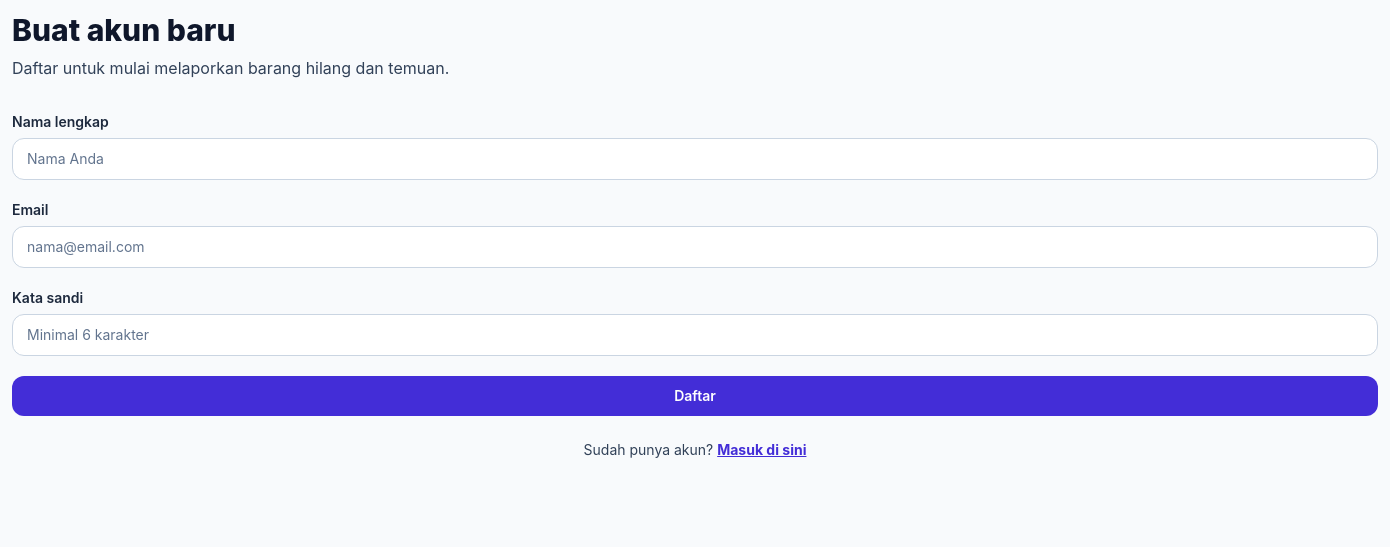
RegisterPage › memvalidasi input
Type "123" into the password field labelled "Kata sandi" at {"x": 695, "y": 335}, box top-left (12, 314), bottom-right (1378, 356)
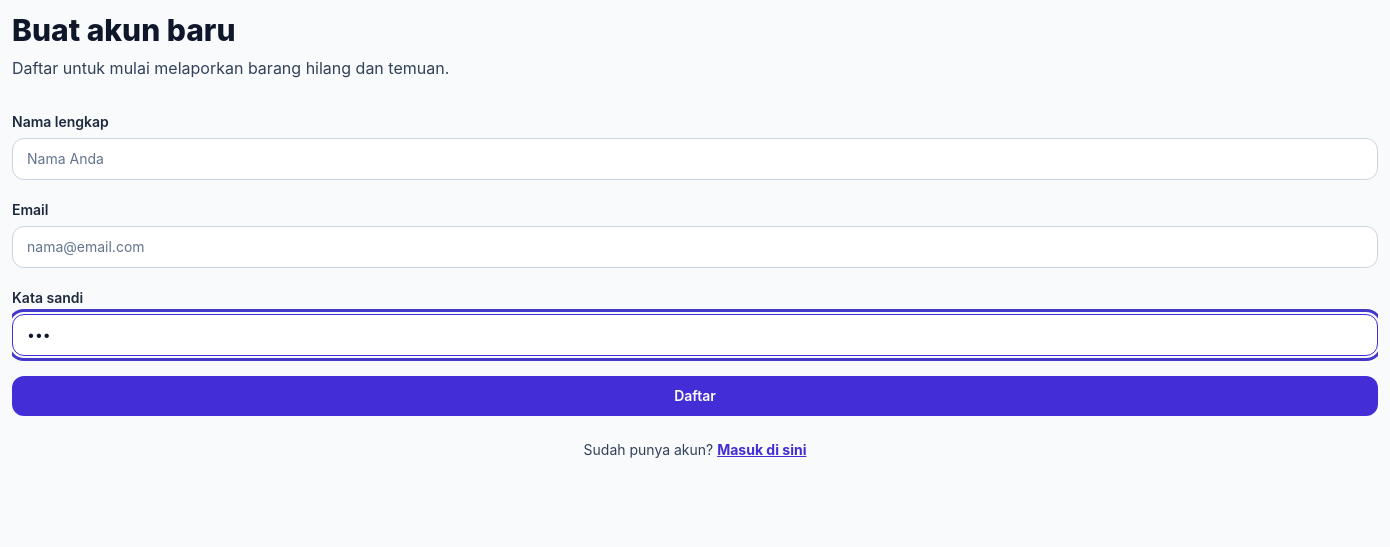
Click the button "Daftar" at {"x": 695, "y": 396}, box top-left (12, 376), bottom-right (1378, 416)
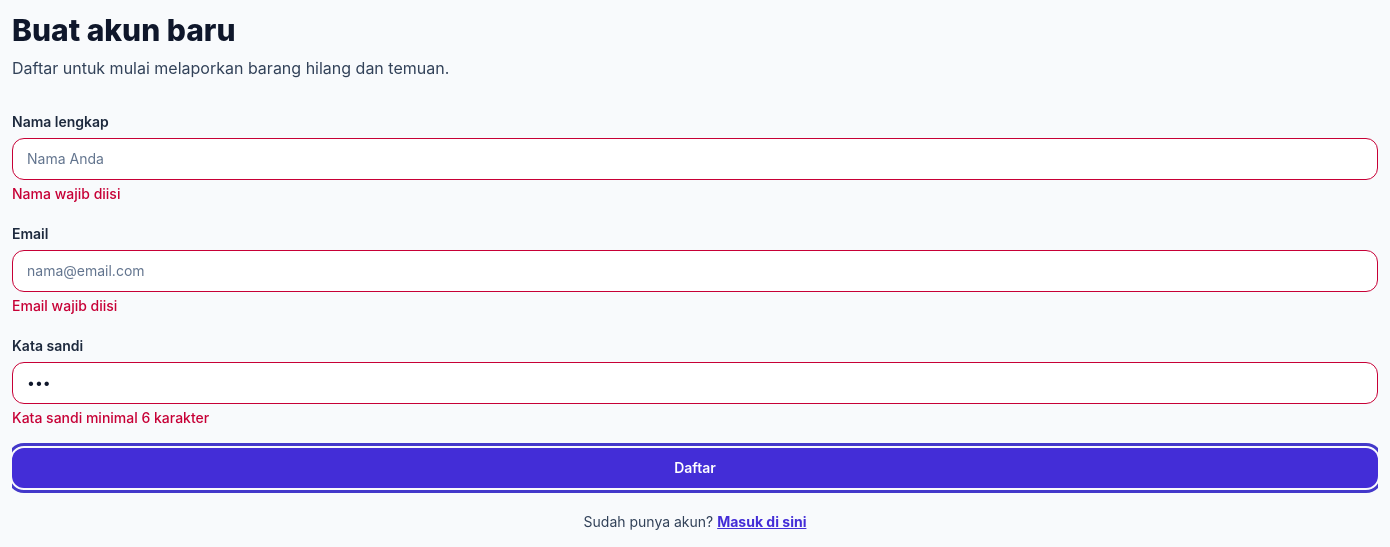
Expected: the text "Nama wajib diisi" is shown, top-left (12, 185), bottom-right (120, 202)
Expected: the text "Email wajib diisi" is shown, top-left (12, 297), bottom-right (117, 314)
Expected: the text "Kata sandi minimal 6 karakter" is shown, top-left (12, 409), bottom-right (209, 426)
